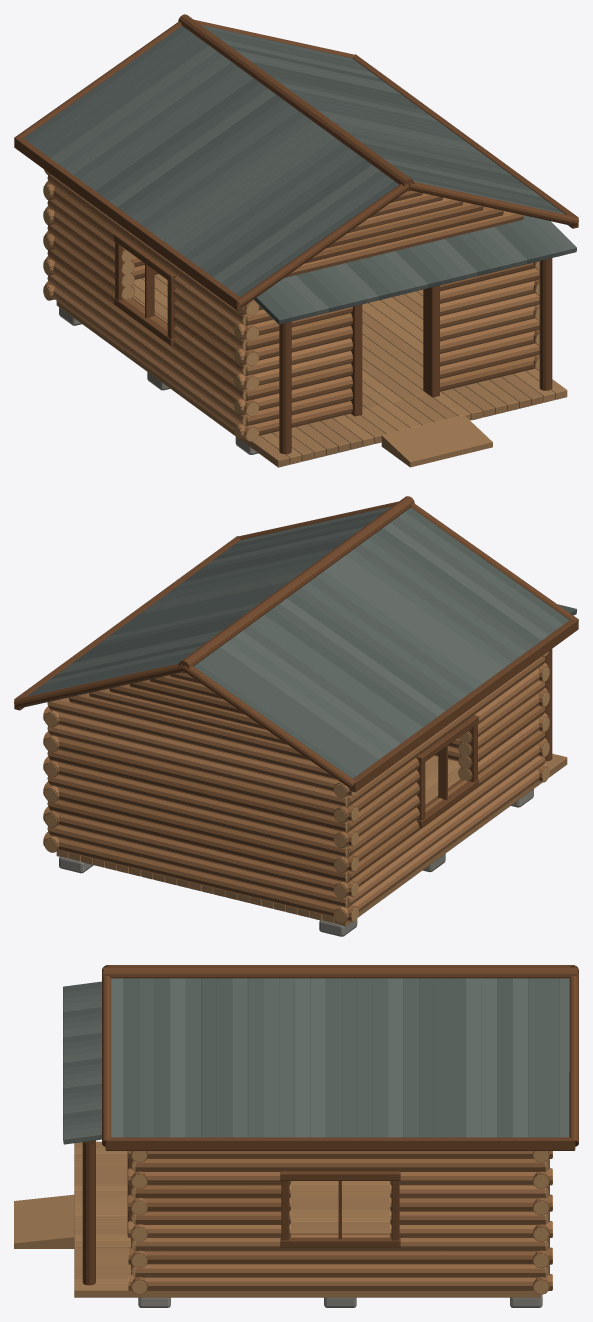
File: log-cabin.glb
The picture shows the model from 3 angles, top to bottom: view 1: azimuth 30°, elevation 25°; view 2: azimuth 150°, elevation 25°; view 3: azimuth 270°, elevation 25°; orthographic projection. The views are drawn at different scales.
Visible parts, largest first — view 1: Eave_fascia, Entry_ramp, Roof_ridge_cap, Side_wall_log, Side_wall_log.004, Side_wall_log.002, Gable_log, Gable_fascia, Side_wall_log.006, Gable_log.002, Side_wall_log.008, Door_jamb.001 (+128 smaller); view 2: Back_wall_log.001, Back_wall_log.003, Back_wall_log.007, Back_wall_log.005, Back_wall_log.009, Back_wall_log, Back_wall_log.004, Back_wall_log.002, Back_wall_log.006, Back_wall_log.008, Back_wall_log.010, Eave_fascia (+90 smaller); view 3: Eave_fascia.001, Side_wall_log.003, Roof_ridge_cap, Side_wall_log.005, Side_wall_log.001, Side_wall_log.009, Side_wall_log.007, Side_wall_log.011, Entry_ramp, Interior_floor_plank.023, Roof_shingle_board.032, Roof_shingle_board.037 (+57 smaller).
Part boxes in pixels (box(x1,y1,x2,y2)): Eave_fascia: box(14, 137, 242, 310); Entry_ramp: box(381, 415, 492, 467); Roof_ridge_cap: box(178, 14, 414, 191); Side_wall_log: box(45, 281, 259, 441); Side_wall_log.004: box(45, 256, 259, 416); Side_wall_log.002: box(47, 274, 245, 426); Gable_log: box(284, 211, 523, 277); Gable_fascia: box(238, 184, 409, 307); Side_wall_log.006: box(47, 249, 245, 400); Gable_log.002: box(305, 206, 503, 263); Side_wall_log.008: box(47, 175, 245, 325); Door_jamb.001: box(423, 285, 439, 397); Back_wall_log.001: box(49, 825, 346, 907); Back_wall_log.003: box(49, 800, 346, 882); Back_wall_log.007: box(49, 750, 346, 832); Back_wall_log.005: box(49, 775, 346, 857); Back_wall_log.009: box(49, 725, 346, 807); Back_wall_log: box(43, 832, 358, 922); Back_wall_log.004: box(43, 781, 357, 871); Back_wall_log.002: box(43, 807, 358, 896); Back_wall_log.006: box(43, 756, 357, 846); Back_wall_log.008: box(43, 731, 357, 821); Back_wall_log.010: box(43, 706, 354, 796); Eave_fascia: box(350, 619, 578, 792); Eave_fascia.001: box(105, 1137, 575, 1150); Side_wall_log.003: box(135, 1264, 545, 1277); Roof_ridge_cap: box(103, 967, 577, 978); Side_wall_log.005: box(128, 1247, 552, 1264); Side_wall_log.001: box(128, 1274, 552, 1290); Side_wall_log.009: box(135, 1159, 545, 1171); Side_wall_log.007: box(135, 1234, 545, 1251); Side_wall_log.011: box(128, 1151, 552, 1158); Entry_ramp: box(14, 1194, 74, 1248); Interior_floor_plank.023: box(139, 1291, 541, 1297); Roof_shingle_board.032: box(138, 978, 154, 1137); Roof_shingle_board.037: box(216, 978, 232, 1137).
Bounding box in the file's own units: 8.27 × 5.89 × 11.25.
